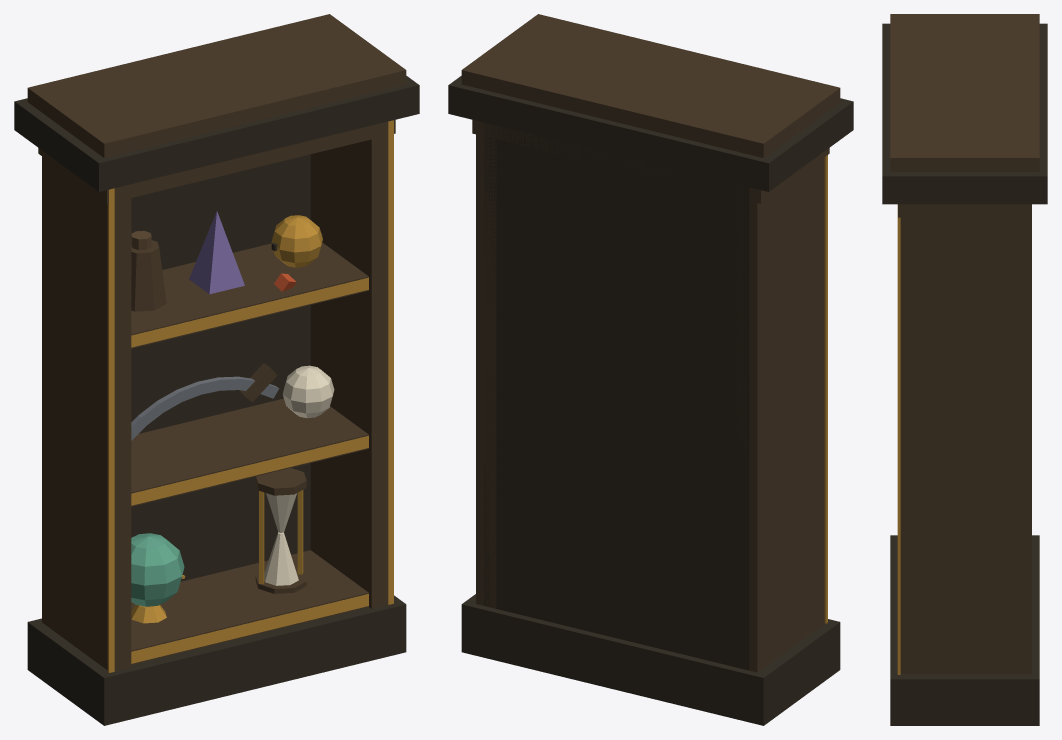
File: MarketAntiquarianCabinet.fbx
The picture shows the model from 3 angles, left to right: view 1: azimuth 30°, elevation 25°; view 2: azimuth 150°, elevation 25°; view 3: azimuth 270°, elevation 25°; orthographic projection. The views are drawn at different scales.
Parts seen in each view (by area): view 1: MarketAntiquarianCabinet; view 2: MarketAntiquarianCabinet; view 3: MarketAntiquarianCabinet.
Boxes of the visible parts, x1,y1,x2,y2 form: MarketAntiquarianCabinet: (14,14,419,725); MarketAntiquarianCabinet: (448,14,853,725); MarketAntiquarianCabinet: (882,14,1047,725).
Size of the model in its own units: 140 by 243 by 64.
9 materials, 9 textured.
